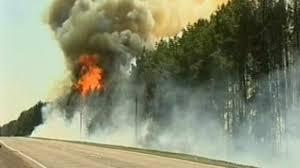fire: (70, 53, 104, 98)
yanwu: (34, 76, 299, 165), (27, 0, 195, 136)
